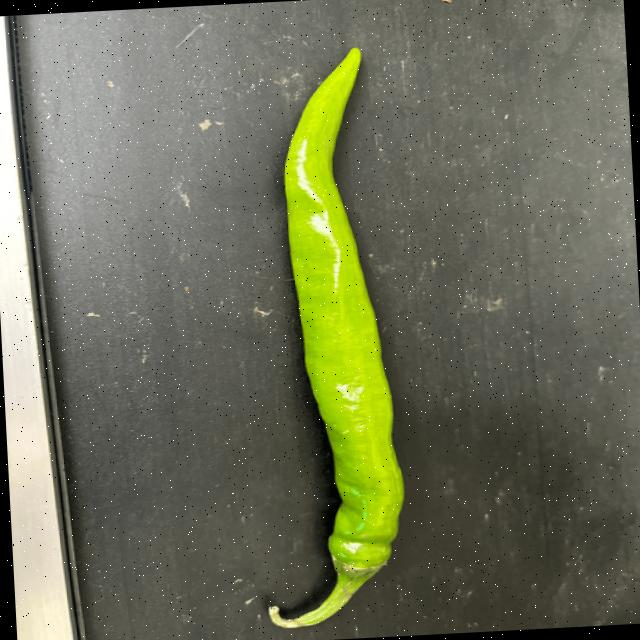chili: (279, 45, 404, 584)
